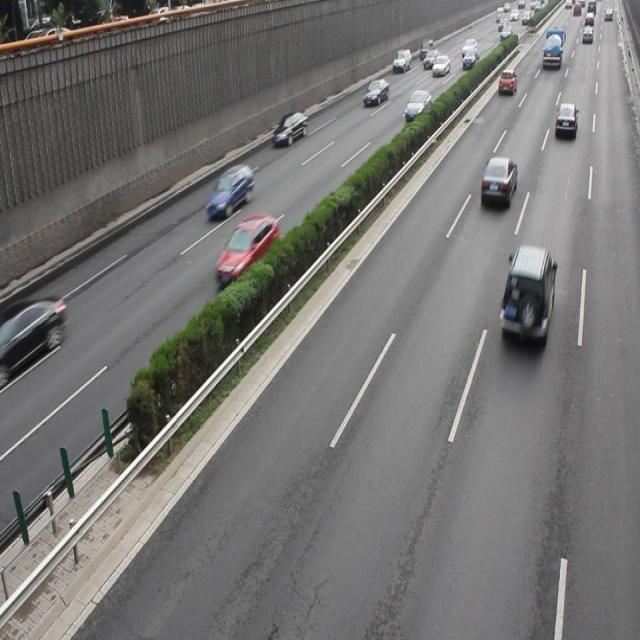car: (497, 244, 555, 343), (1, 294, 66, 376), (214, 213, 278, 287), (206, 162, 253, 220), (479, 154, 516, 207), (271, 110, 307, 147), (402, 88, 430, 122), (553, 100, 576, 138)
